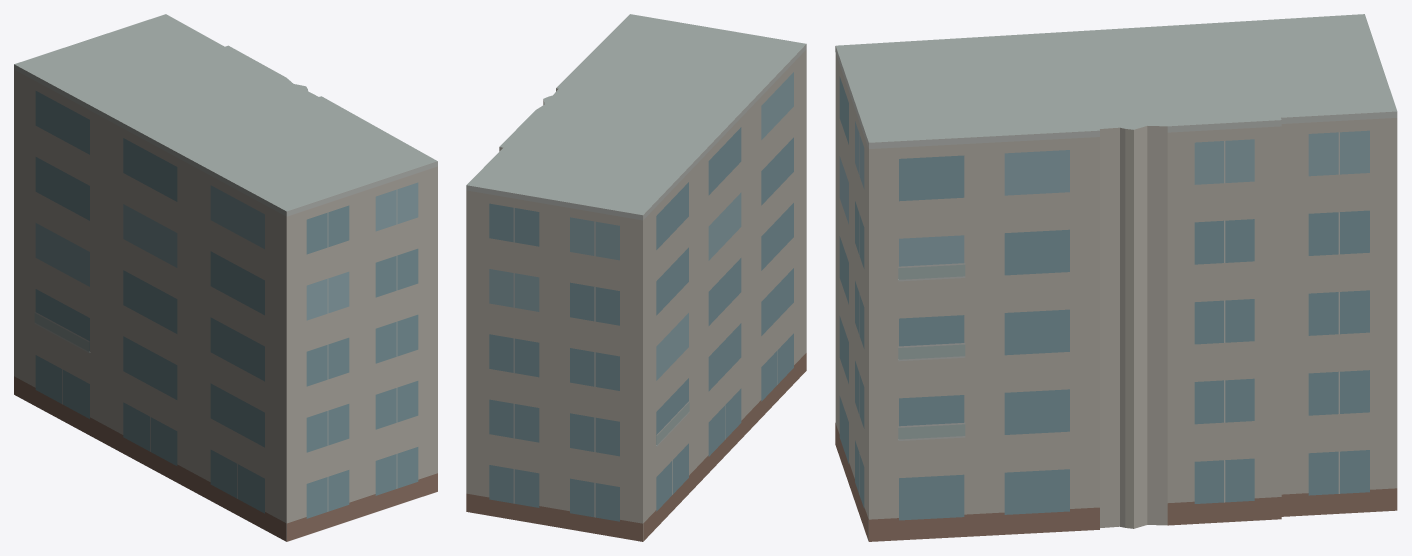
File: survey-upis-32549447.glb
3 views of the same model, side by side, from view 1: azimuth 30°, elevation 25°; view 2: azimuth 150°, elevation 25°; view 3: azimuth 270°, elevation 25° (orthographic). The views are drawn at different scales.
Visible parts, largest first — view 1: survey-upis-32549447.tmp; view 2: survey-upis-32549447.tmp; view 3: survey-upis-32549447.tmp.
Part boxes in pixels (x1,y1,x2,y2): survey-upis-32549447.tmp: (14, 14, 437, 541); survey-upis-32549447.tmp: (466, 14, 806, 541); survey-upis-32549447.tmp: (835, 14, 1397, 541).
Size of the model in its own units: 10.67 by 15.4 by 19.66.
